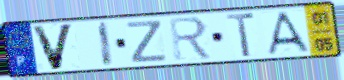A: (265, 10, 313, 56)
I: (96, 20, 115, 68)
R: (167, 15, 215, 62)
T: (224, 11, 257, 59)
V: (29, 22, 77, 72)
Z: (125, 19, 170, 65)
